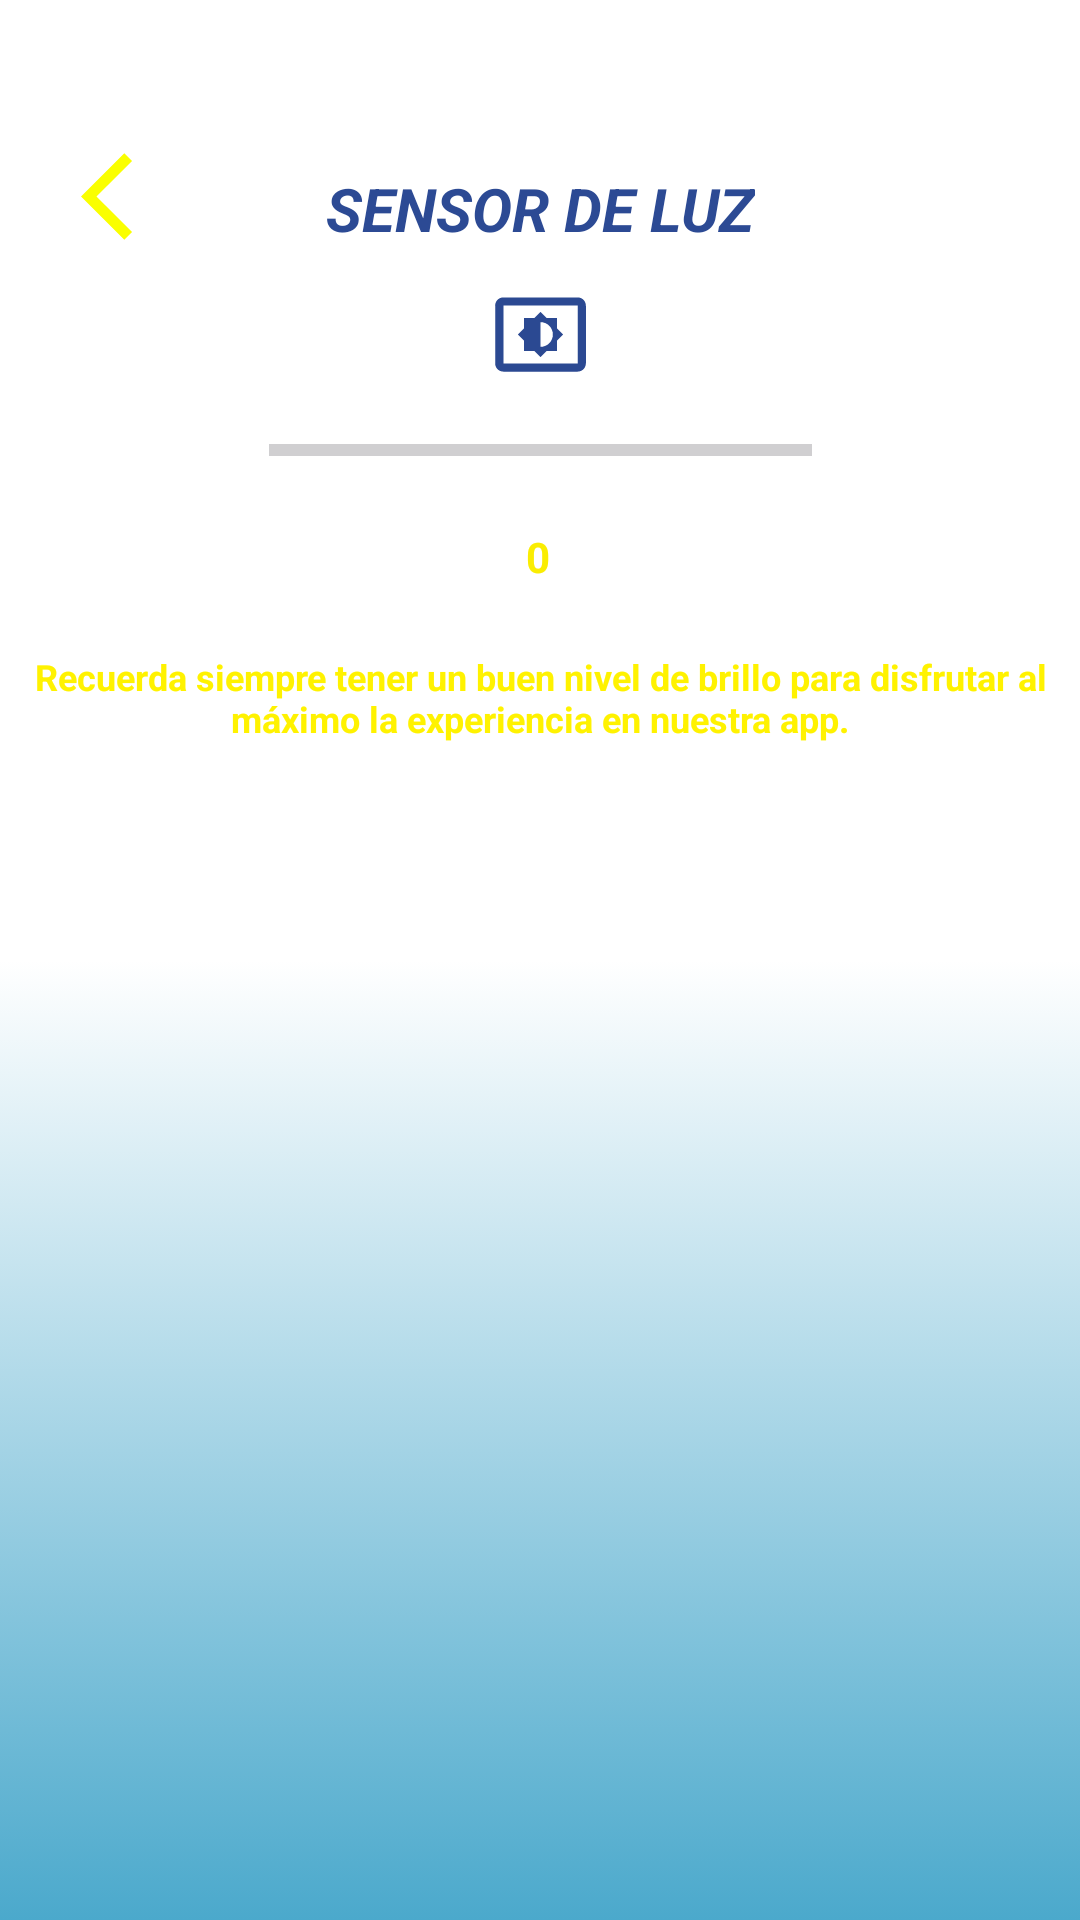

Named icons in this screenshot (1080 x 1920) and their centers, (x=x, y=y):
arrow back: (x=106, y=196)
settings brightness: (x=540, y=334)
